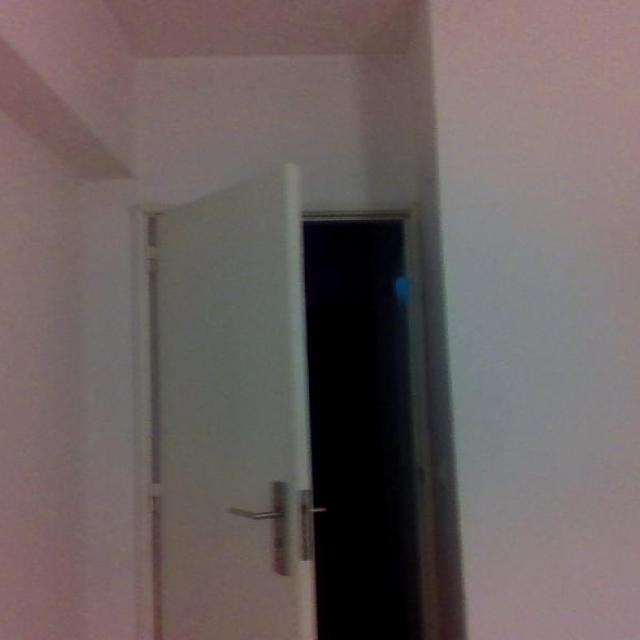door: (145, 161, 317, 638)
